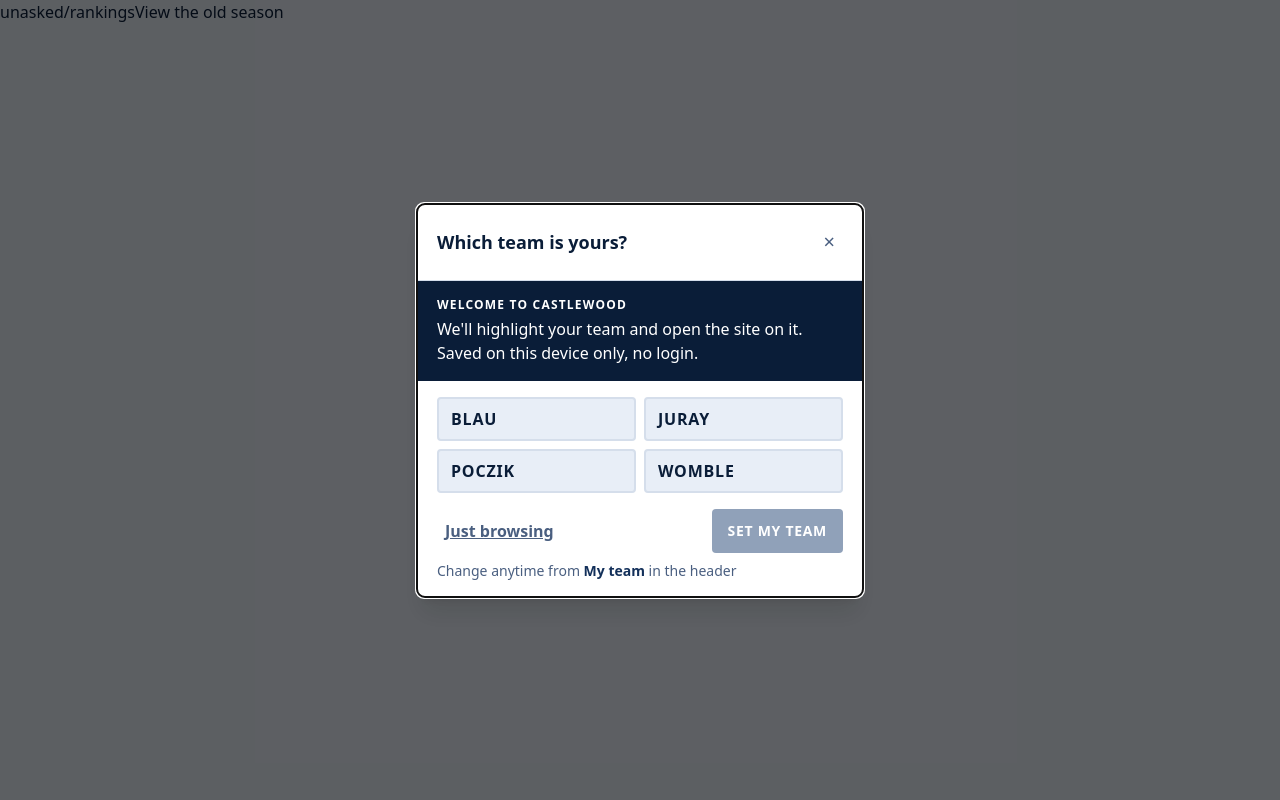
Test: MyTeamPicker › only selects on a team button; the primary button names the team and alone saves it
Expected: the button "Set my team" is disabled, [712,508,843,552]
Click the button "WOMBLE" at point(744, 470), box [644,448,843,492]
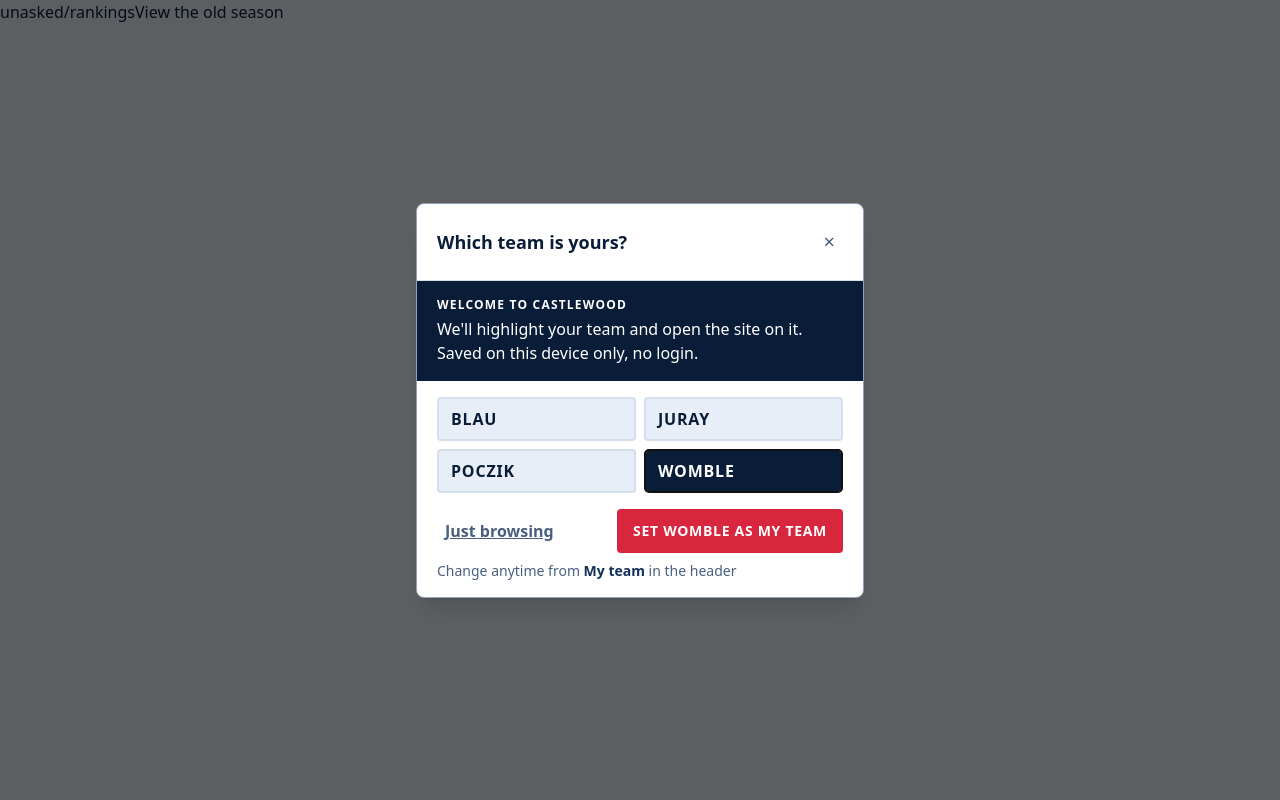
Result: the button "WOMBLE" is pressed at [644,448,843,492]
Click the button "Set WOMBLE as my team" at point(730, 530), box [617,508,843,552]
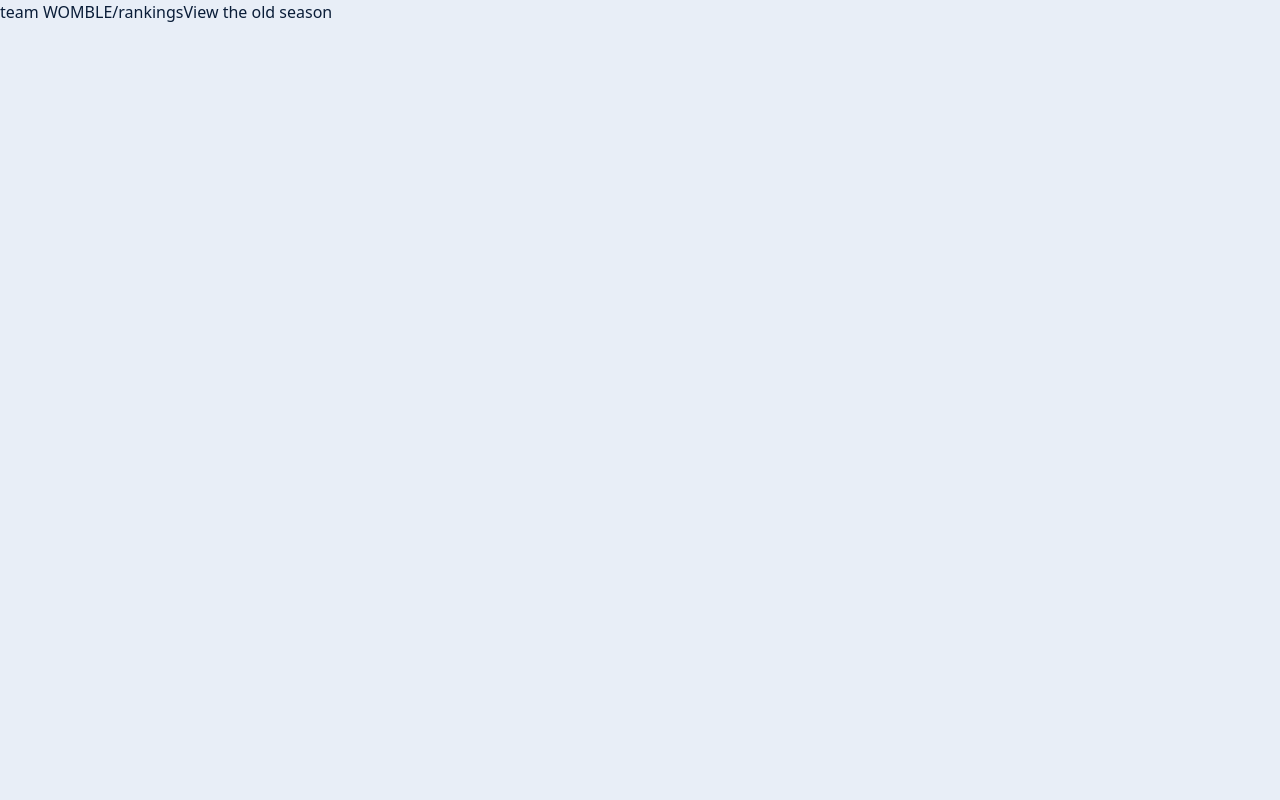
Result: the dialog is gone
Result: the text named "Choice" reads "team WOMBLE" at [0,1,112,23]
